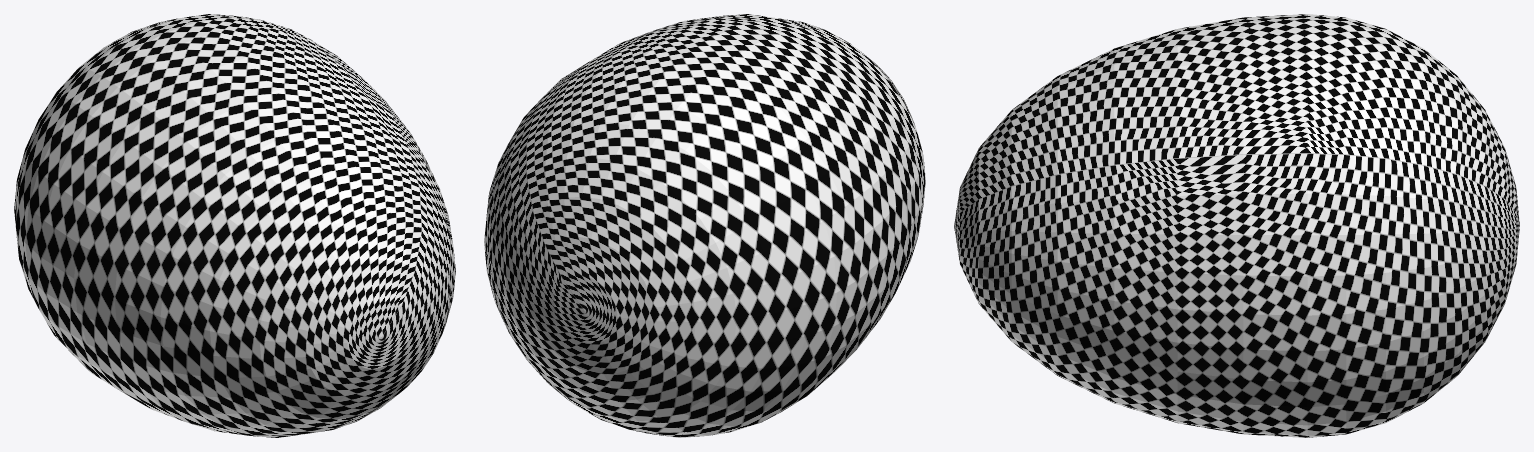
The model's file is egg.obj.
3 renders of one model, left to right at view 1: azimuth 30°, elevation 25°; view 2: azimuth 150°, elevation 25°; view 3: azimuth 270°, elevation 25°, orthographic. The views are drawn at different scales.
Bounding box in the file's own units: 45 × 45 × 60.
